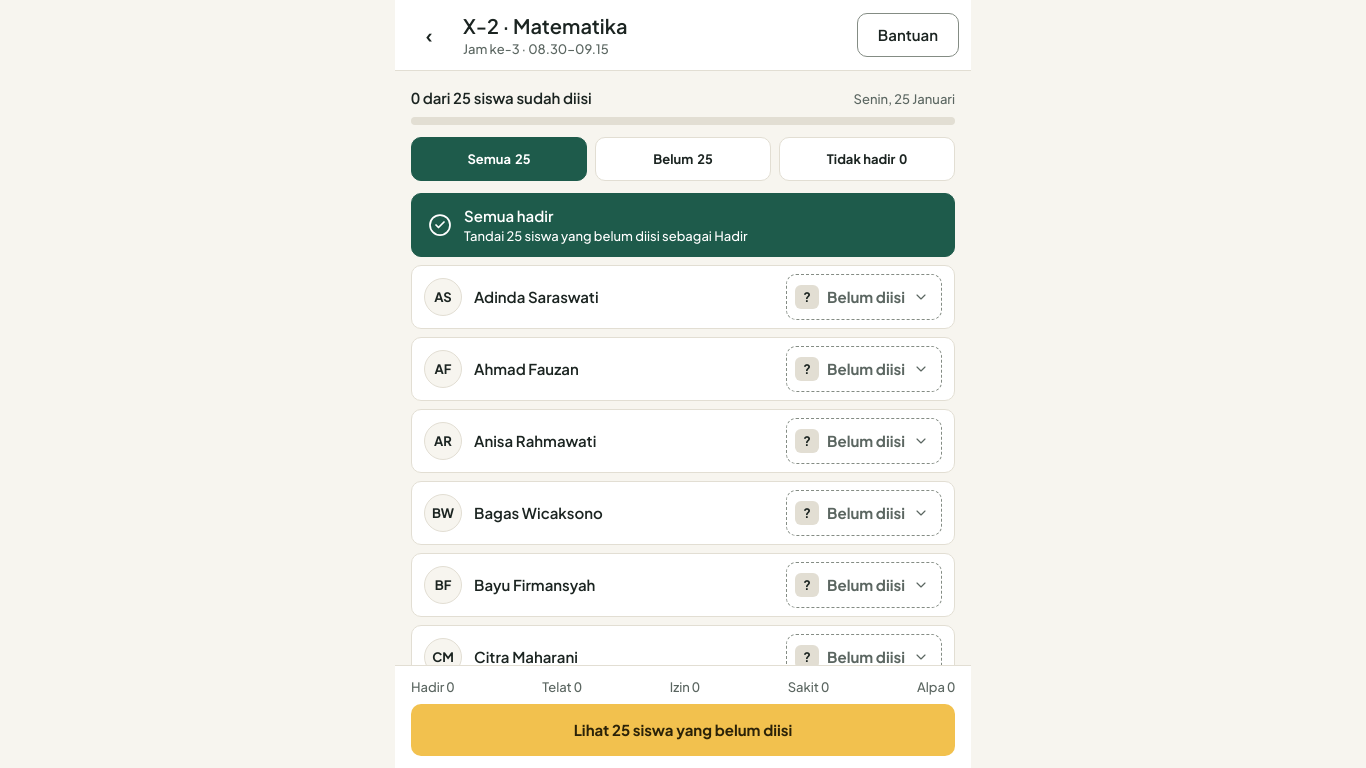
Test: step 3: Semua hadir › Urungkan puts everything back to "Belum diisi"
Step 1. Click the button "Semua hadir Tandai 25 siswa yang belum diisi sebagai Hadir" → x=683, y=225, box left=411, top=193, right=955, bottom=257
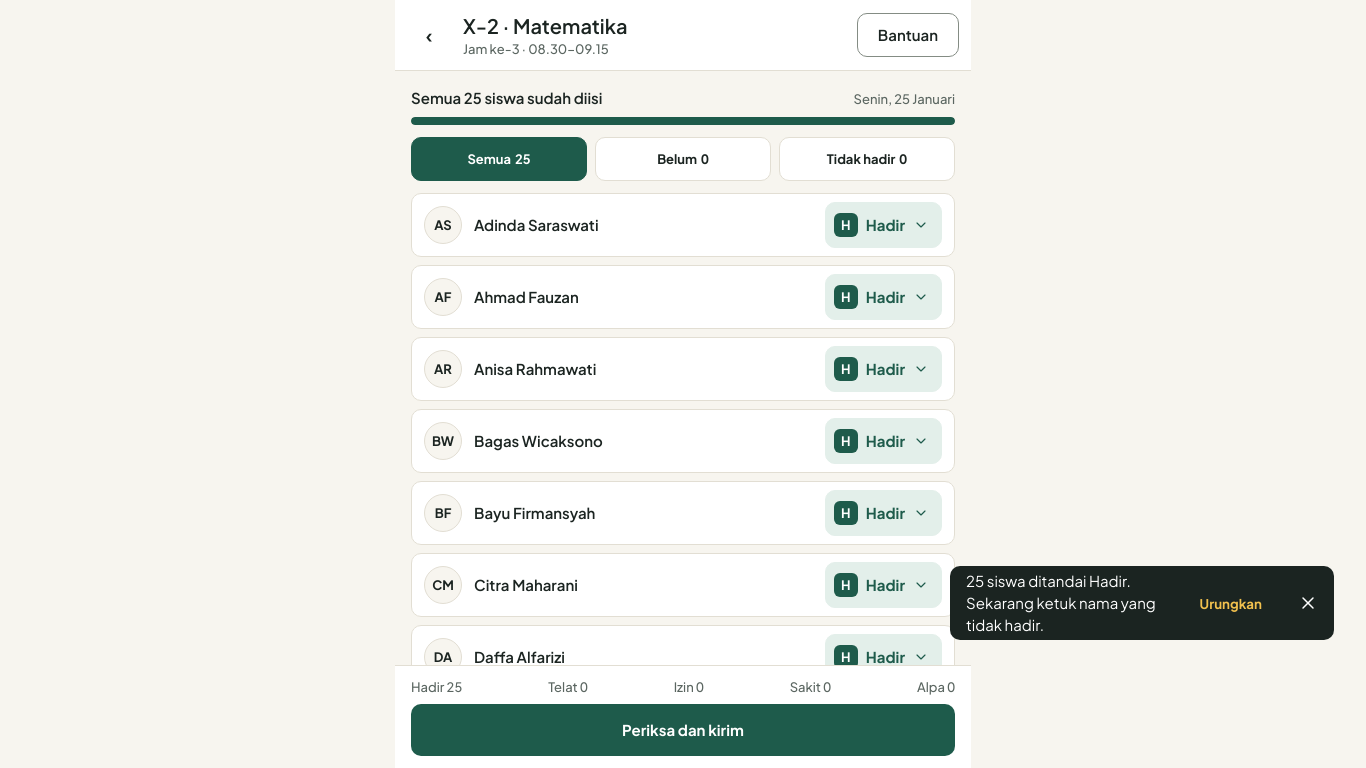
Step 2. Click the button "Urungkan" → x=1231, y=603, box left=1184, top=581, right=1278, bottom=625
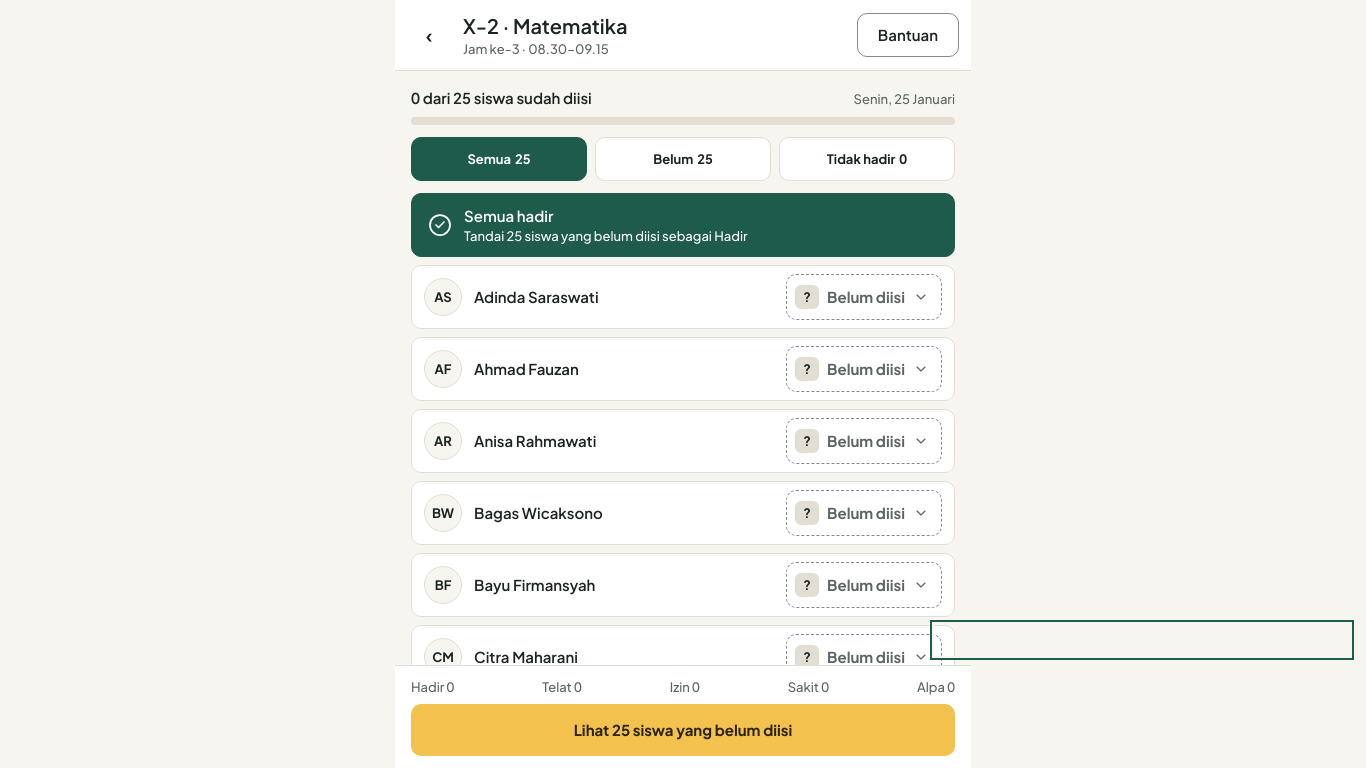
Expected: the number of buttons named ": Belum diisi. Ketuk" is 25
Expected: the button "Semua hadir Tandai 25 siswa yang belum diisi sebagai Hadir" is shown, left=411, top=193, right=955, bottom=257
